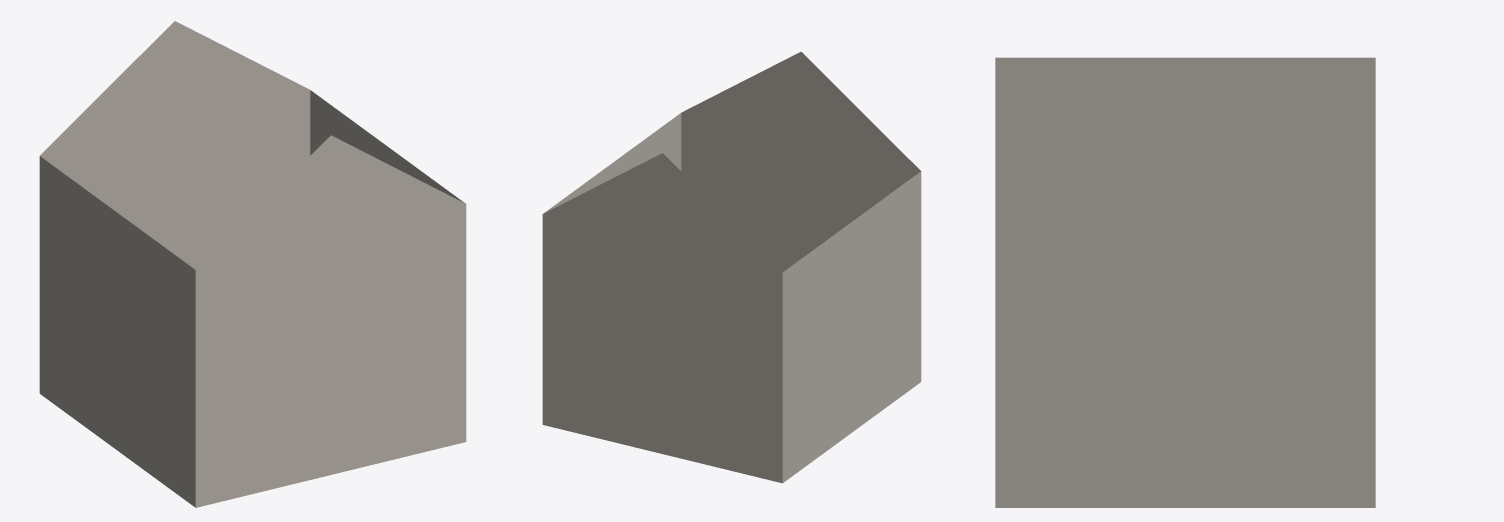
The model's file is Bld_I_med_L1_C.fbx.
3 renders of one model, left to right at view 1: azimuth 30°, elevation 25°; view 2: azimuth 150°, elevation 25°; view 3: azimuth 270°, elevation 25°, orthographic. The views are drawn at different scales.
Parts seen in each view (by area): view 1: Bld_I_med_L1_C_LOD0; view 2: Bld_I_med_L1_C_LOD0; view 3: Bld_I_med_L1_C_LOD0.
Boxes of the visible parts, left/top/right/bottom form: Bld_I_med_L1_C_LOD0: left=39, top=21, right=466, bottom=507; Bld_I_med_L1_C_LOD0: left=542, top=51, right=921, bottom=483; Bld_I_med_L1_C_LOD0: left=995, top=57, right=1375, bottom=507.
Size of what is drawn, in the model's own units: 560 by 650 by 680.
Materials: 1 (1 with a texture image).
